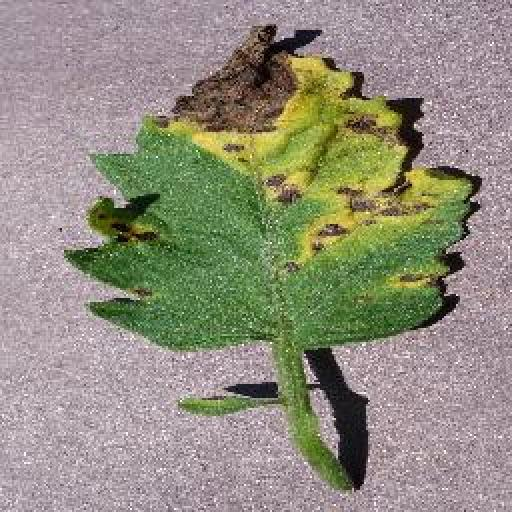disease_tomato: (68, 20, 478, 356)
